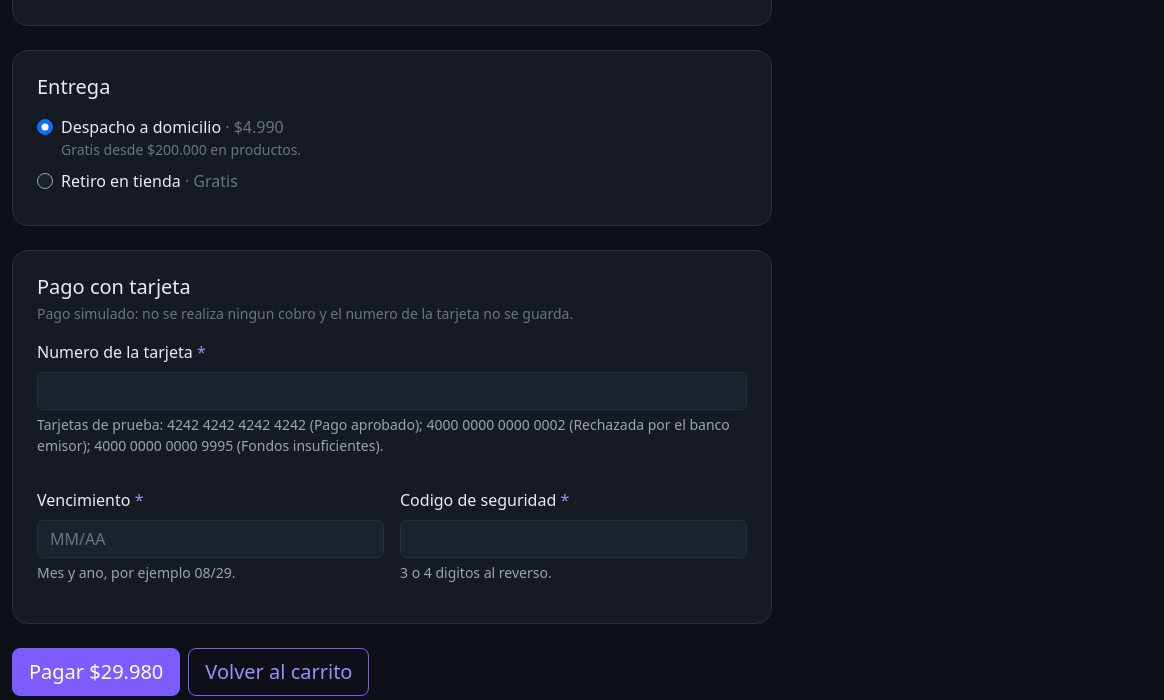
Test: Checkout › con la sesion iniciada › si el stock cambio antes de pagar avisa y no cobra
The width and height of the screenshot is (1164, 700).
(page scrolled)
Step 1. Type "4242424242424242" into the field labelled "Numero de la tarjeta *" → (392, 391), box 37,372 -> 747,410
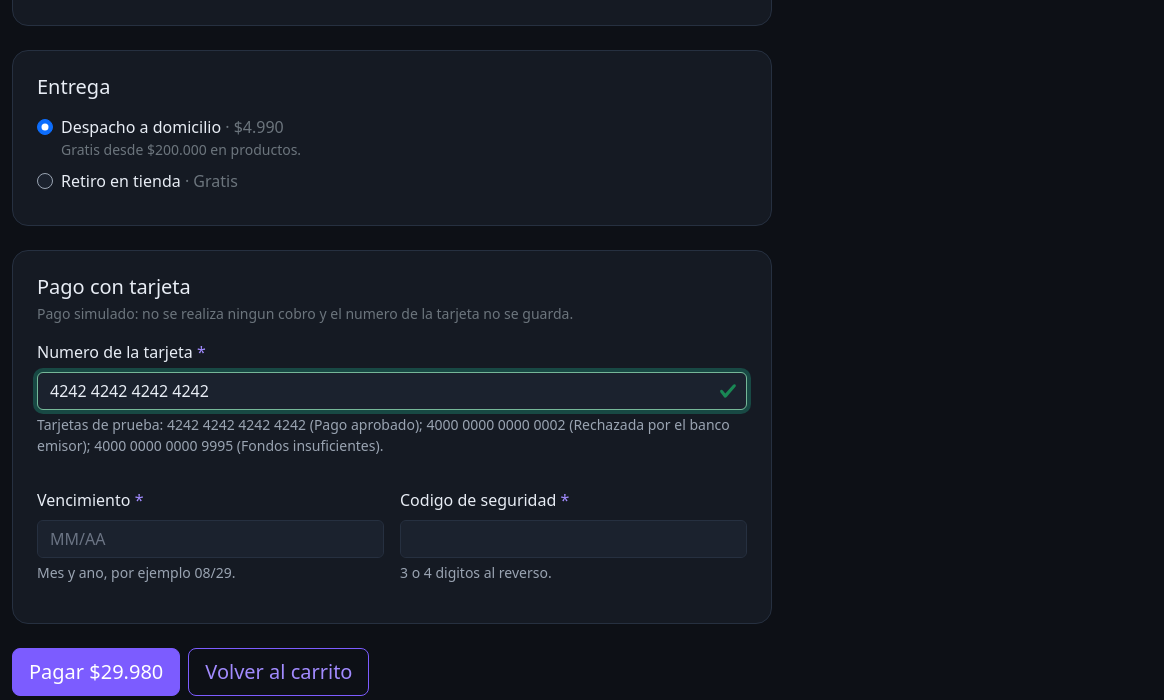
Step 2. Type "1299" into the field labelled "Vencimiento *" → (210, 539), box 37,520 -> 384,558
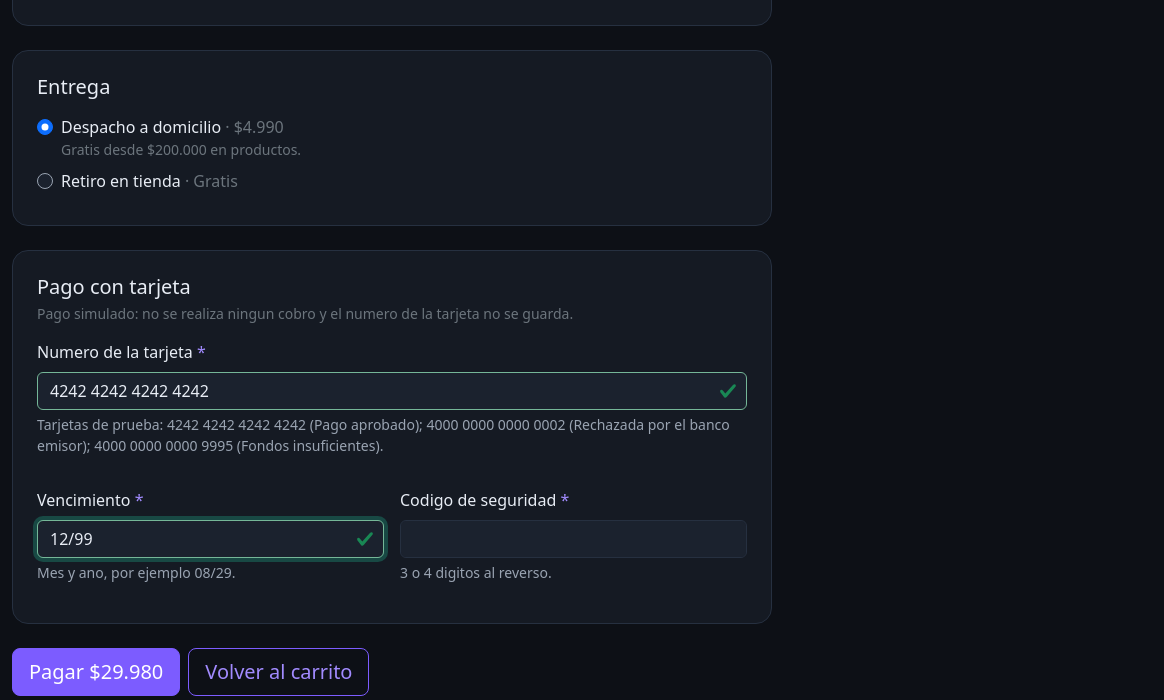
Step 3. Type "123" into the password field labelled "Codigo de seguridad *" → (574, 539), box 400,520 -> 747,558
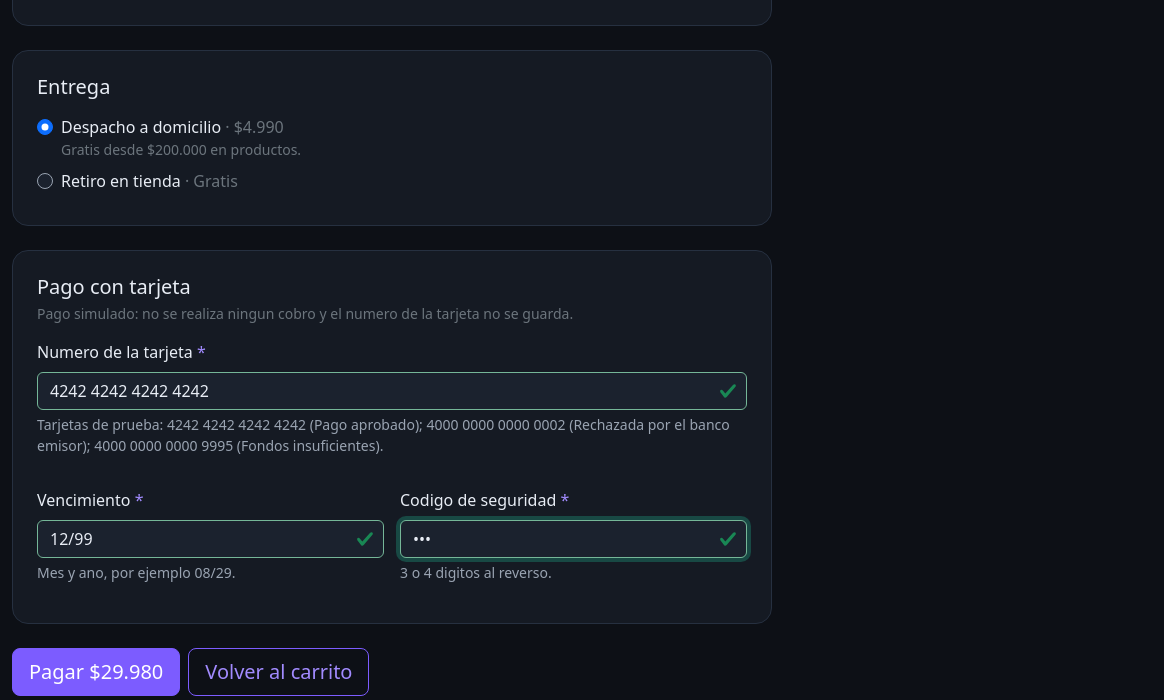
Step 4. Click the button "Pagar $29.980" → (96, 672), box 12,648 -> 180,696
(page scrolled)
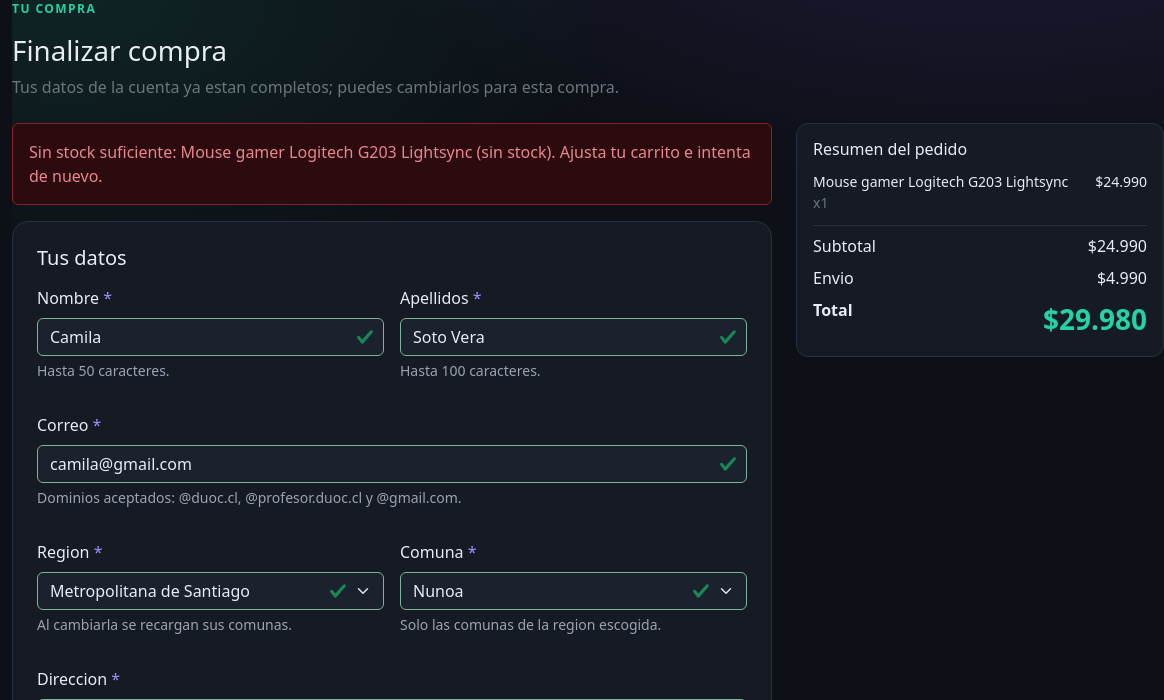
Now the message shows "Sin stock suficiente", box 29,141 -> 751,187
